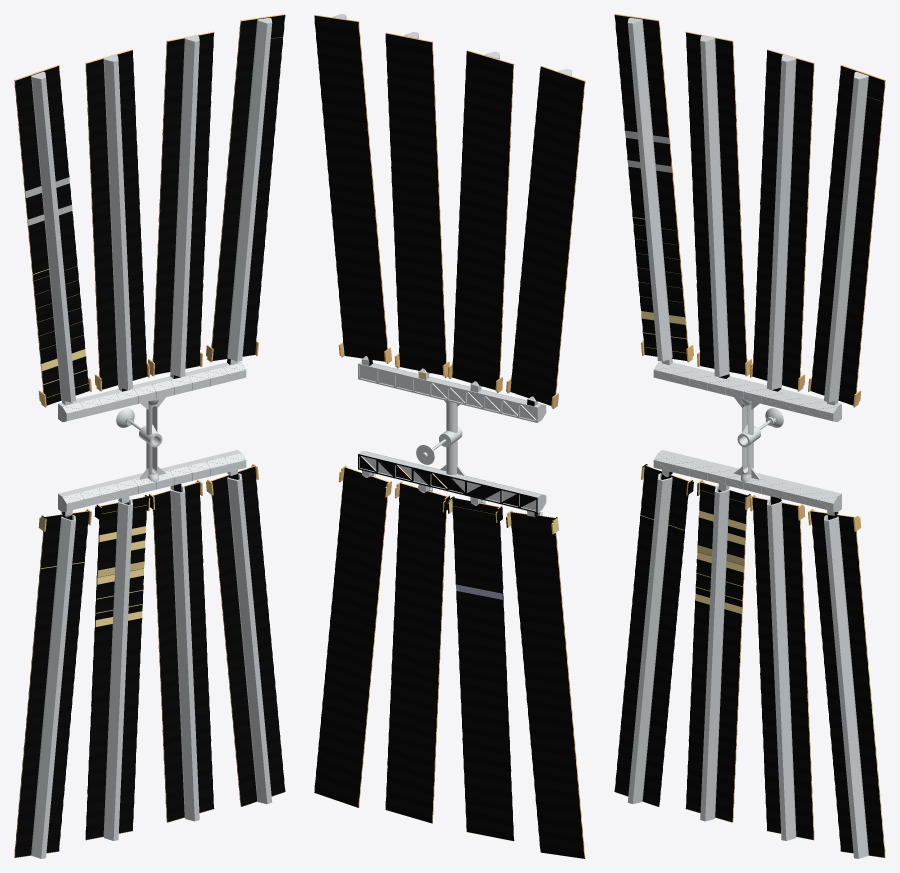
Rendered from solarpanels_1.FBX.
The picture shows the model from 3 angles, left to right: view 1: azimuth 30°, elevation 25°; view 2: azimuth 150°, elevation 25°; view 3: azimuth 330°, elevation 25°; orthographic projection.
Visible parts, largest first — view 1: Subensamble N52 ISS-1/Subensamble N50 ISS-1/Subensamble N47  (×10), Subensamble N52 ISS-1/Subensamble N50 ISS-1/pieza N106 ISS-1; view 2: Subensamble N52 ISS-1/Subensamble N50 ISS-1/Subensamble N47  (×2), Subensamble N52 ISS-1/Subensamble N50 ISS-1/pieza N106 ISS-1; view 3: Subensamble N52 ISS-1/Subensamble N50 ISS-1/Subensamble N47  (×10), Subensamble N52 ISS-1/Subensamble N50 ISS-1/pieza N106 ISS-1.
Part boxes in pixels (x1,y1,x2,y2): Subensamble N52 ISS-1/Subensamble N50 ISS-1/Subensamble N47  (×10): (14,14,285,858); Subensamble N52 ISS-1/Subensamble N50 ISS-1/pieza N106 ISS-1: (62,363,246,512); Subensamble N52 ISS-1/Subensamble N50 ISS-1/Subensamble N47  (×2): (314,15,585,858); Subensamble N52 ISS-1/Subensamble N50 ISS-1/pieza N106 ISS-1: (362,363,546,509); Subensamble N52 ISS-1/Subensamble N50 ISS-1/Subensamble N47  (×10): (614,14,885,858); Subensamble N52 ISS-1/Subensamble N50 ISS-1/pieza N106 ISS-1: (653,363,837,512).
Bounding box in the file's own units: 1099 × 3055 × 232.
